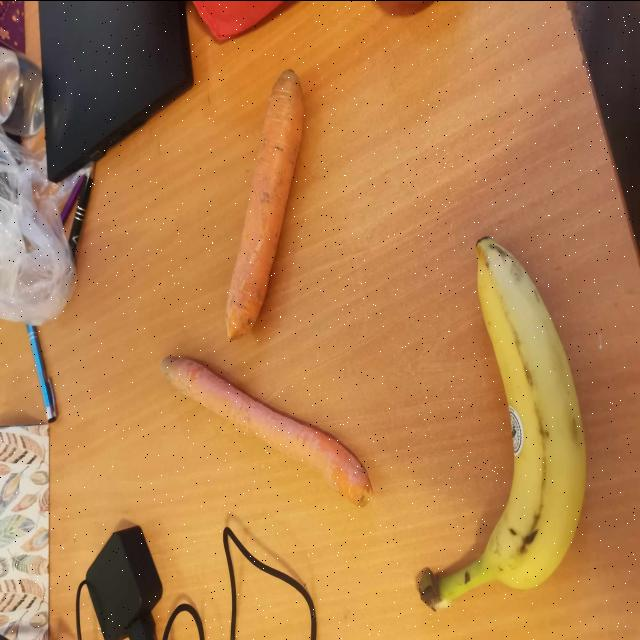banana: (419, 237, 585, 608)
carrot: (161, 355, 371, 505), (226, 68, 304, 338)
